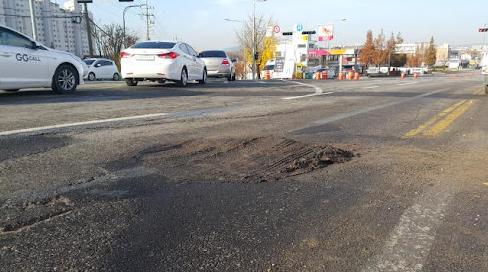pothole: (135, 113, 363, 192)
